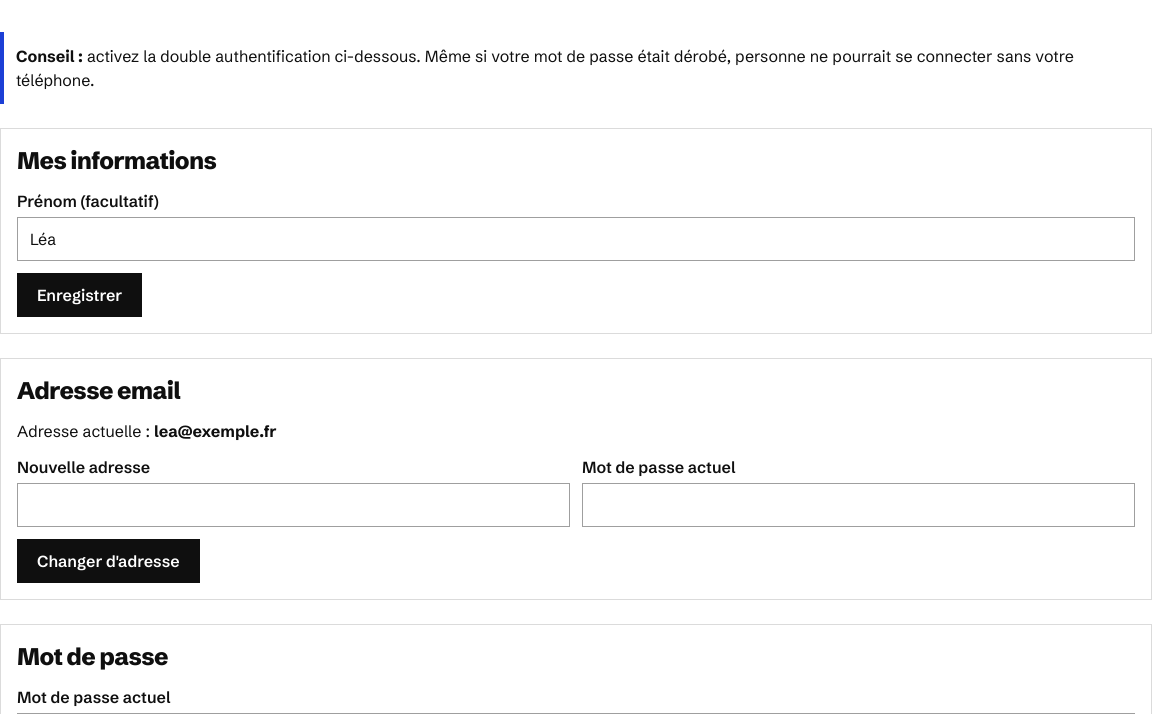
AccountSettings : informations › enregistre le prénom, prévient l'en-tête et rafraîchit
The width and height of the screenshot is (1152, 714).
Replace the text in the field labelled "Prénom (facultatif)" with "Léa-Rose" at (576, 239), box [17,217,1135,261]
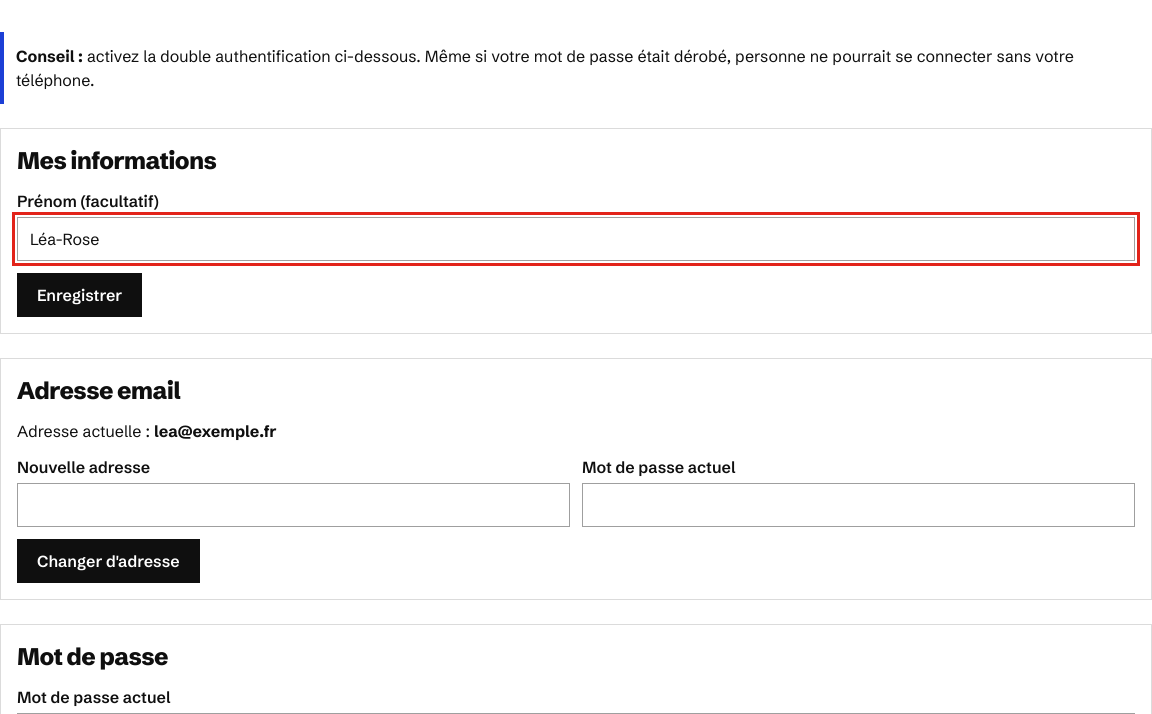
Click the button "Enregistrer" at (80, 295), box [17,273,142,317]
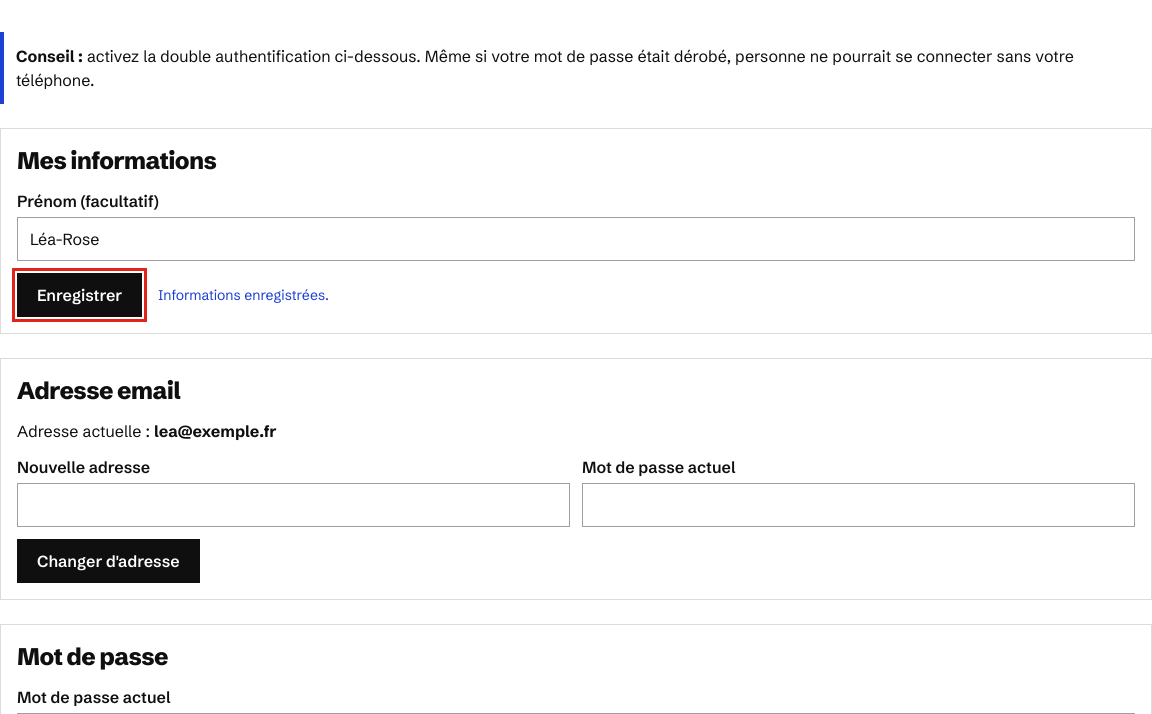
Result: the text "Informations enregistrées." is shown at [158,285,329,305]
